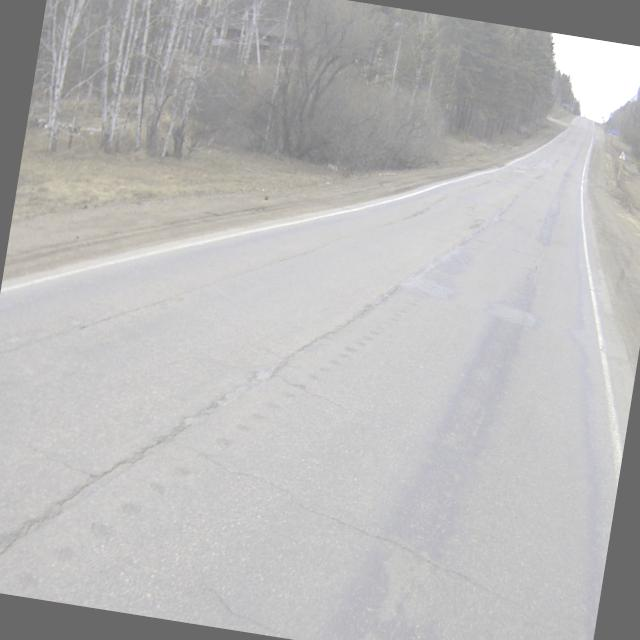road: (0, 117, 634, 640)
